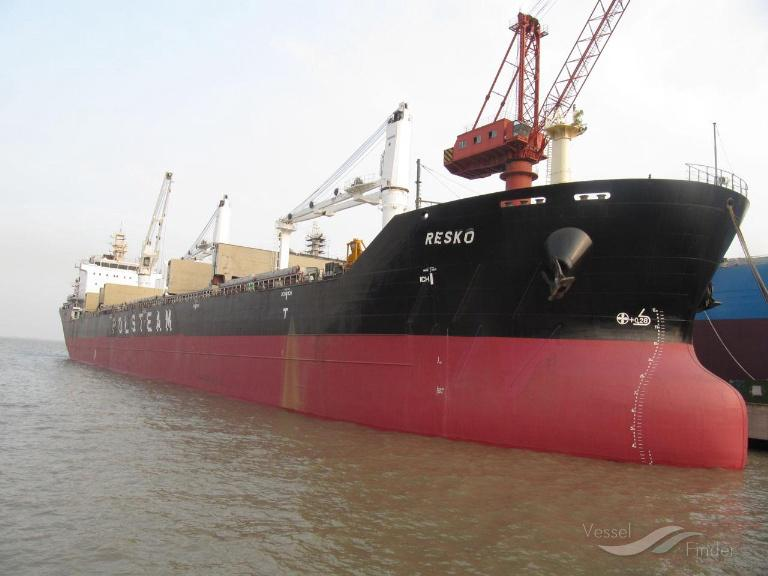OCR: (106, 308, 184, 340), (418, 224, 479, 248)
